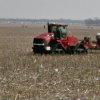Tractor: (25, 17, 84, 62)
